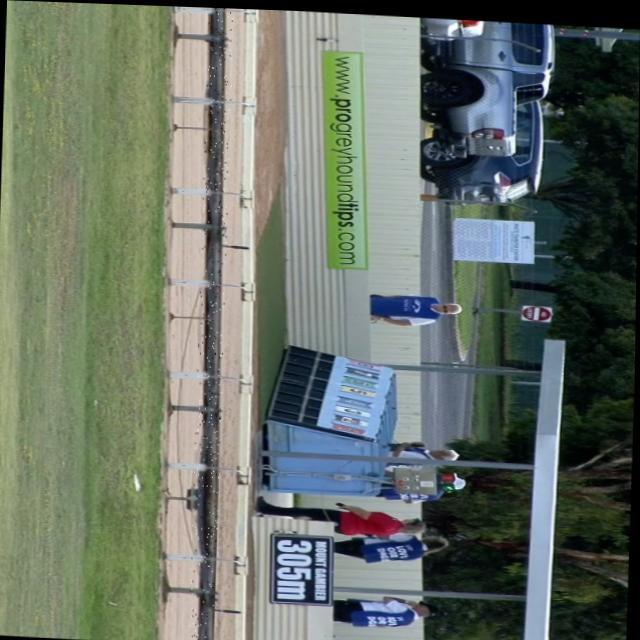rail: (197, 6, 222, 640)
